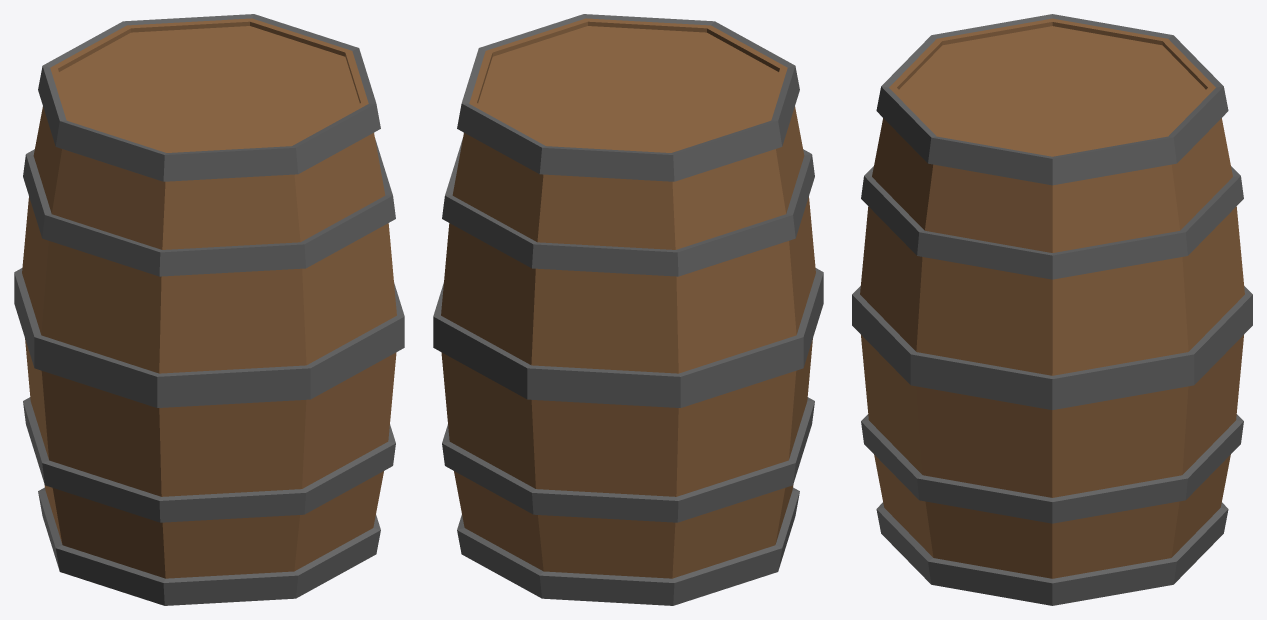
The model's file is Barril.fbx.
The picture shows the model from 3 angles, left to right: view 1: azimuth 30°, elevation 25°; view 2: azimuth 150°, elevation 25°; view 3: azimuth 270°, elevation 25°; orthographic projection.
Parts seen in each view (by area): view 1: Cylinder; view 2: Cylinder; view 3: Cylinder.
Part boxes in pixels (x1=…): Cylinder: x1=14, y1=14, x2=404, y2=605; Cylinder: x1=433, y1=14, x2=823, y2=605; Cylinder: x1=852, y1=14, x2=1252, y2=605.
Bounding box in the file's own units: 2.52 × 3.11 × 2.52.
